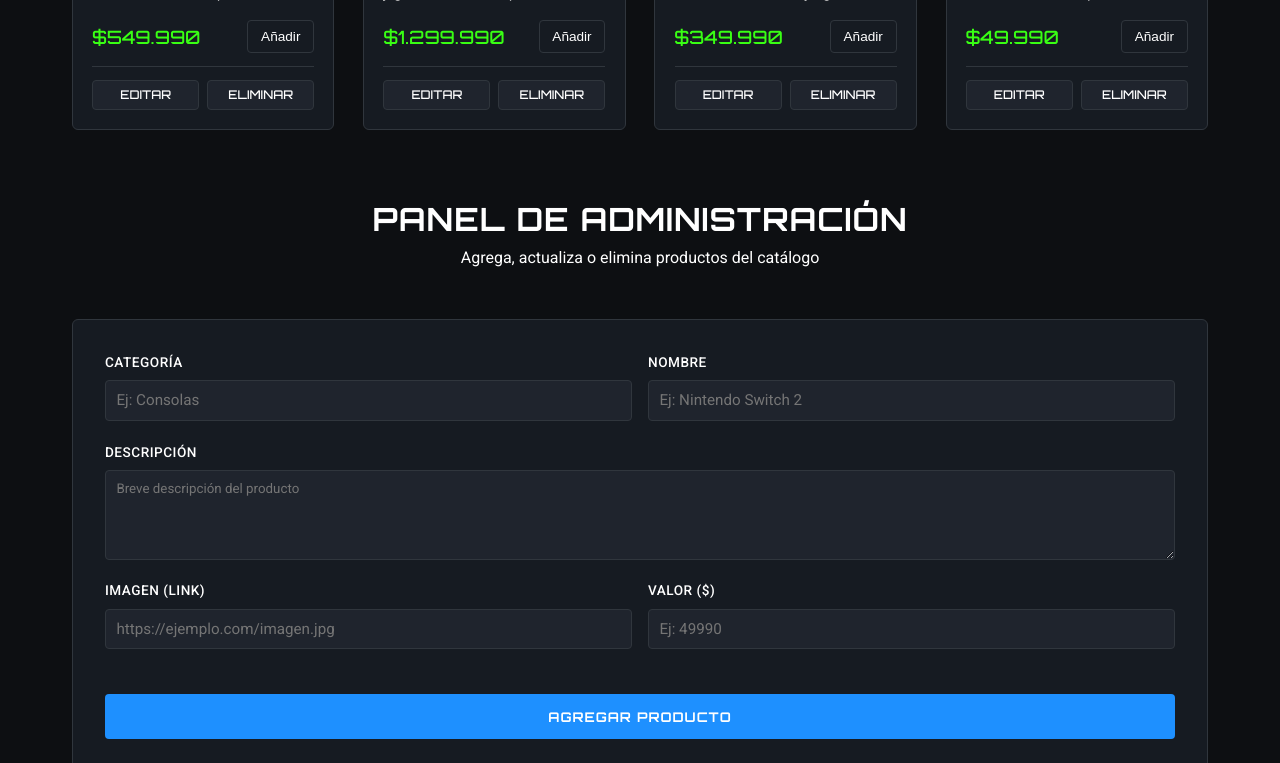
Test case: pagina Inicio › CRUD de productos (admin) › rechaza una imagen que no sea un link válido
This screenshot has width=1280, height=763.
(page scrolled)
Type "Accesorios" into the field labelled "Categoría" at (368, 400), box top-left (105, 380), bottom-right (632, 421)
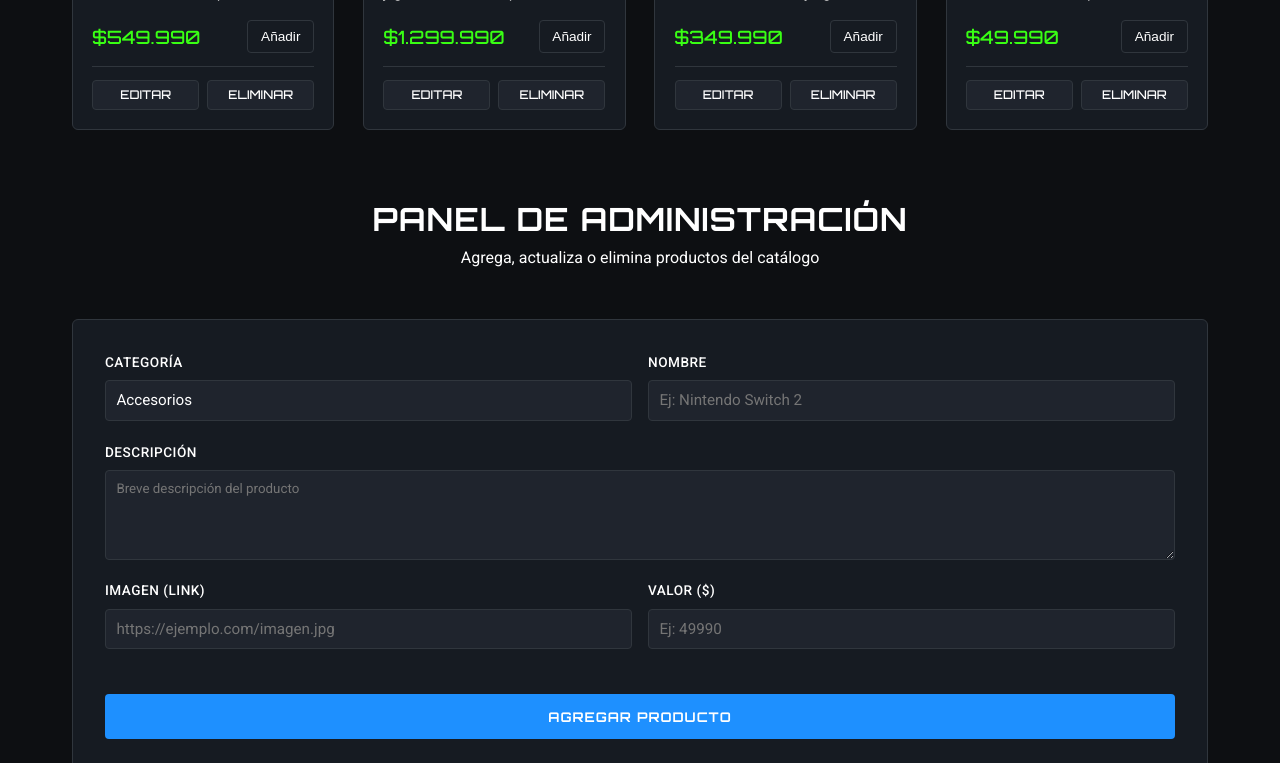
Type "Teclado Test" into the field with placeholder "Ej: Nintendo Switch 2" at (912, 400), box top-left (648, 380), bottom-right (1175, 421)
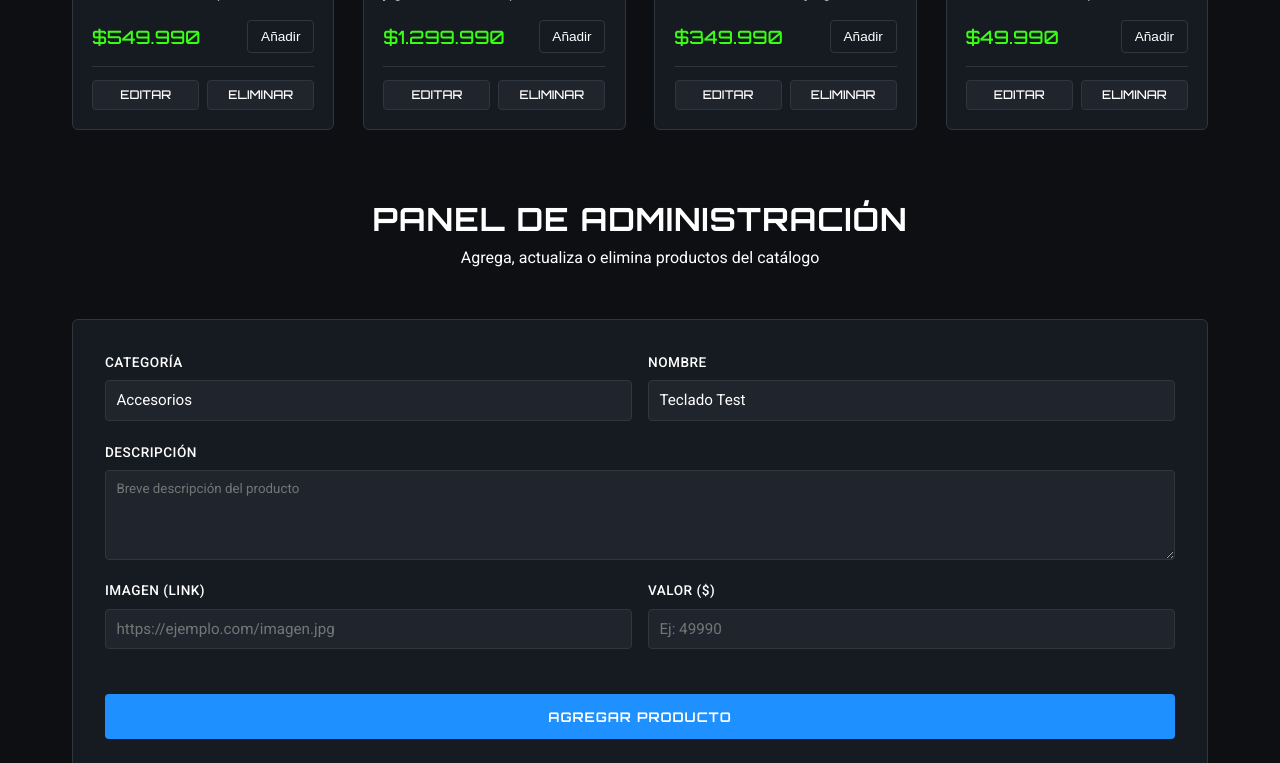
Type "Teclado de prueba para el unit test" into the text box with placeholder "Breve descripci.n" at (640, 515), box top-left (105, 470), bottom-right (1175, 560)
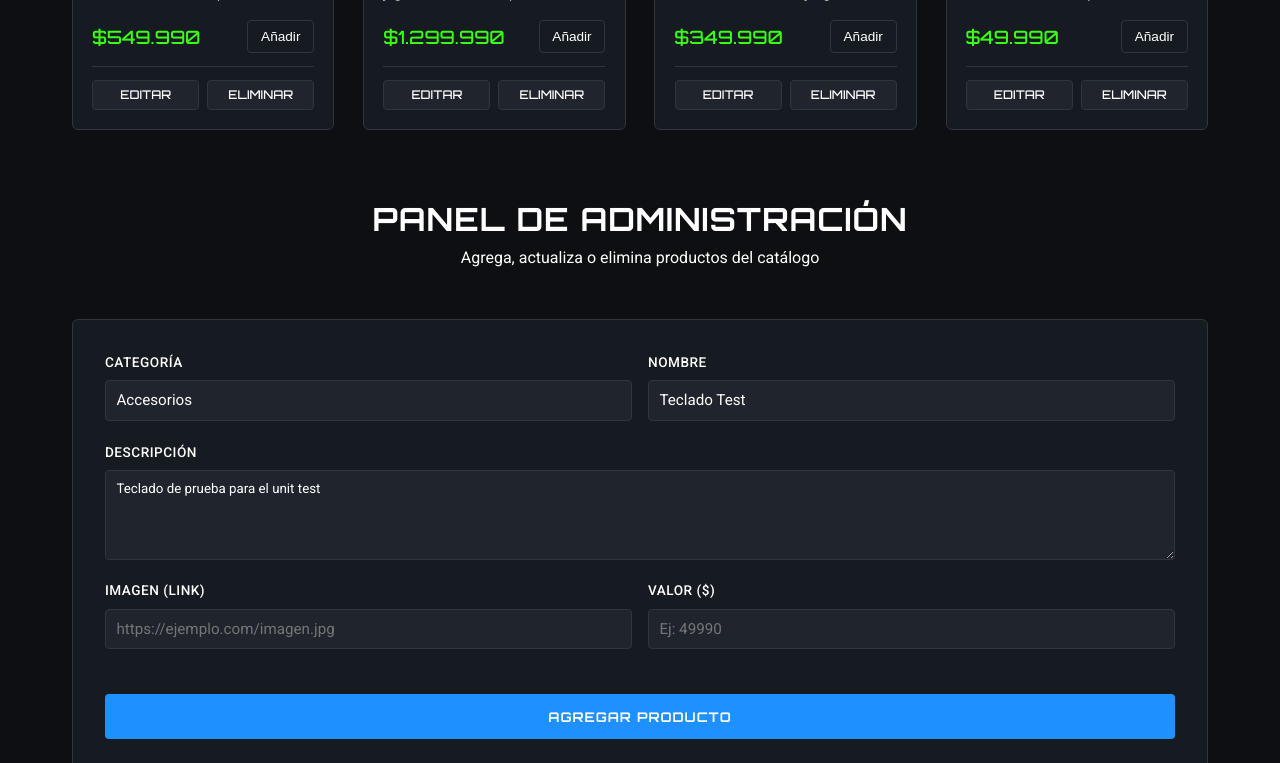
Type "no-es-un-link" into the field with placeholder "https://ejemplo.com/imagen.jpg" at (368, 629), box top-left (105, 609), bottom-right (632, 649)
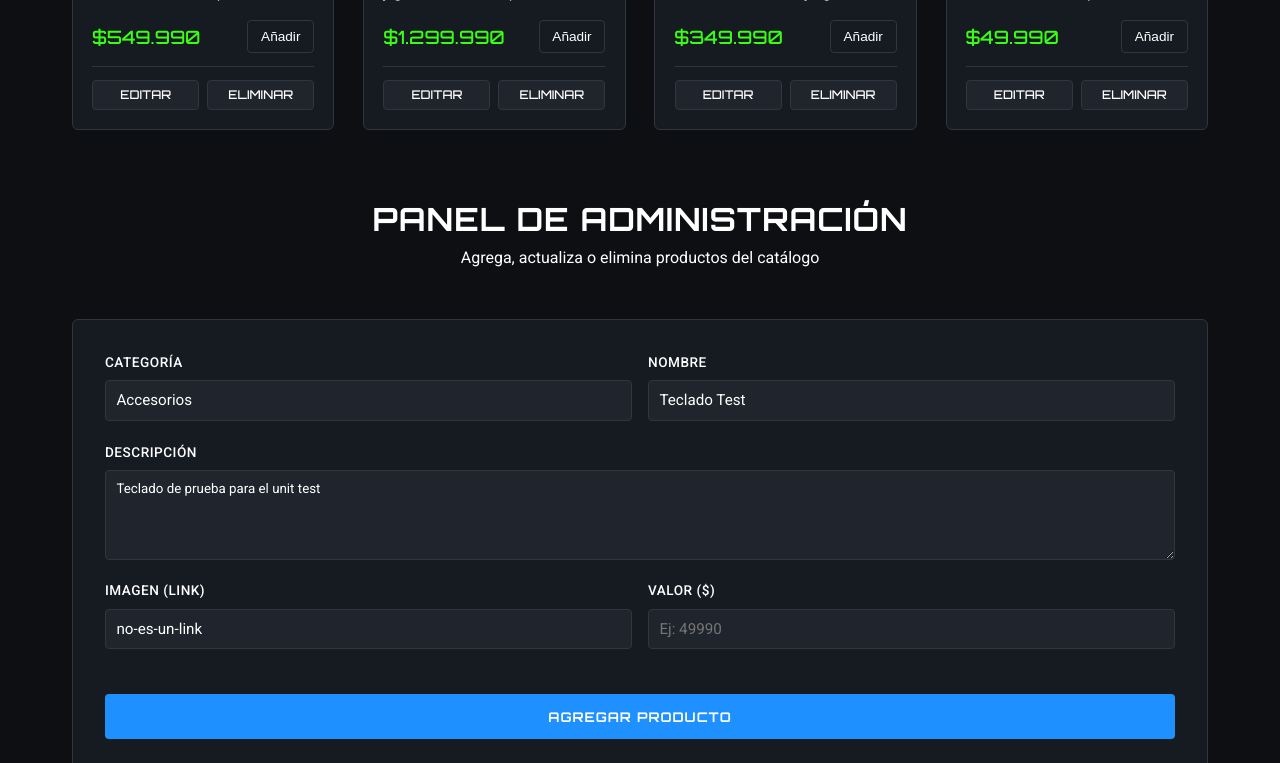
Type "1000" into the number field with placeholder "Ej: 49990" at (912, 629), box top-left (648, 609), bottom-right (1175, 649)
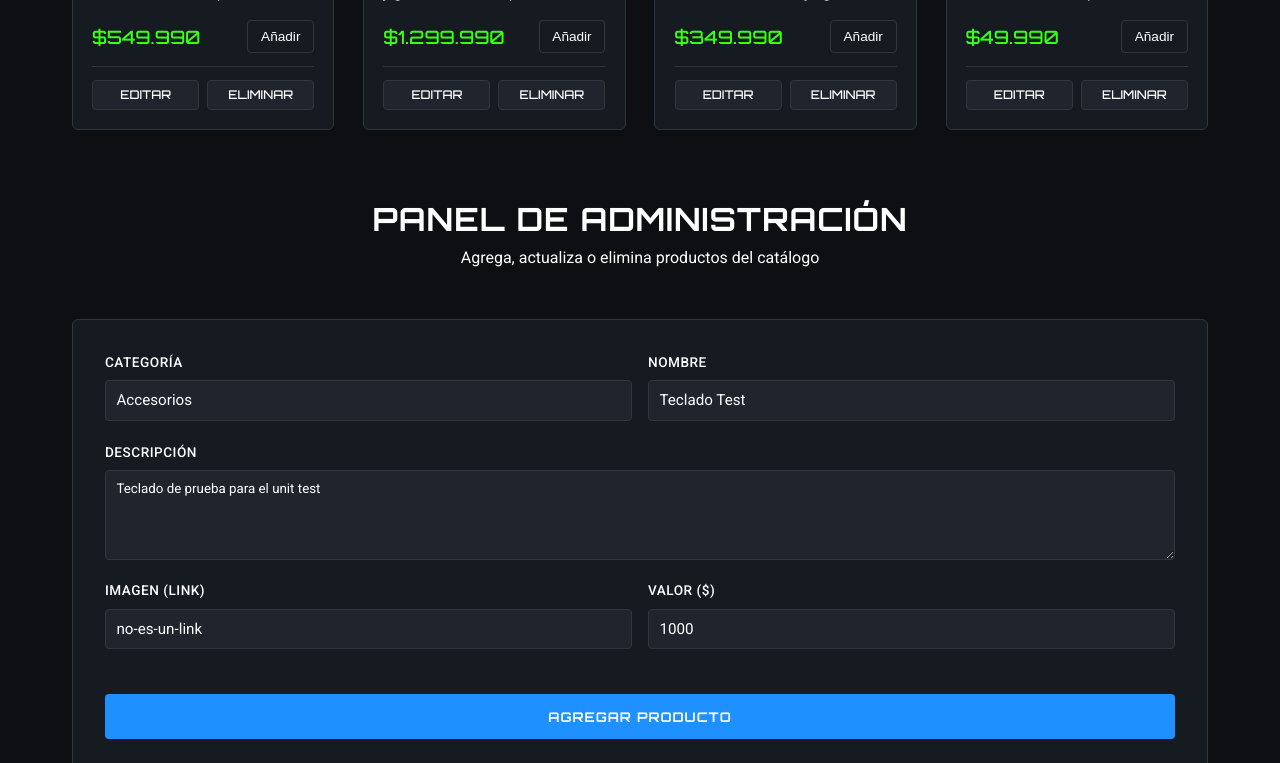
Click the button "Agregar producto" at (640, 717), box top-left (105, 694), bottom-right (1175, 739)
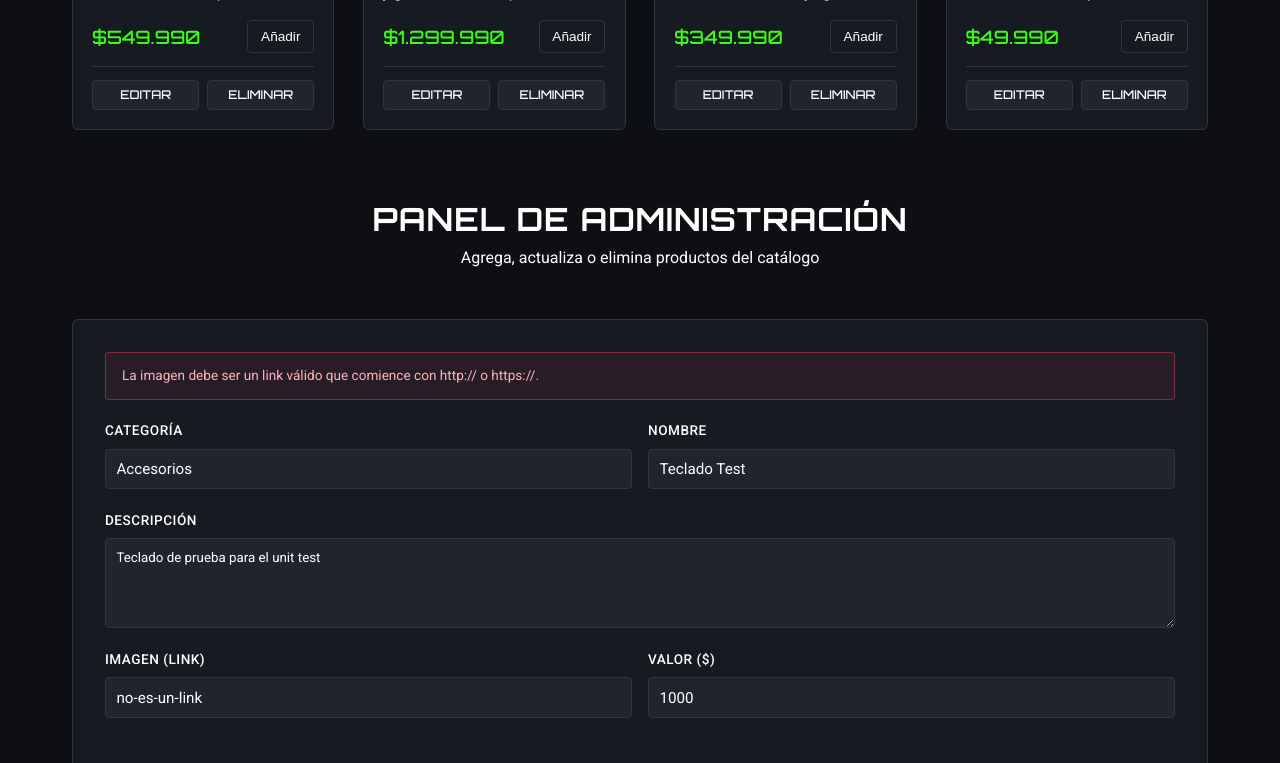
Expected: the text "La imagen debe ser un link válido" is shown, top-left (122, 367), bottom-right (539, 383)
